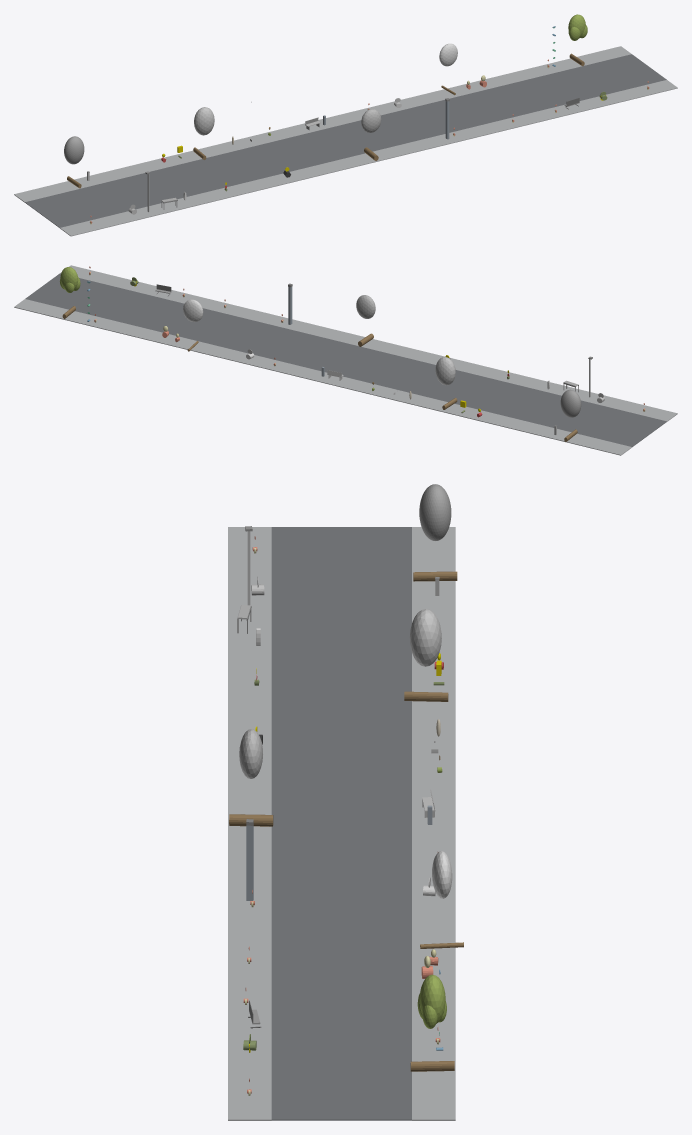
The picture shows the model from 3 angles, top to bottom: view 1: azimuth 30°, elevation 25°; view 2: azimuth 150°, elevation 25°; view 3: azimuth 270°, elevation 25°; orthographic projection. The views are drawn at different scales.
Parts seen in each view (by area): view 1: road_slab, sidewalk_left, sidewalk_right, inst_0013, inst_0012, inst_0016, inst_0014, inst_0015; view 2: road_slab, sidewalk_right, sidewalk_left, inst_0013, inst_0012, inst_0016, inst_0014, inst_0015; view 3: road_slab, sidewalk_left, sidewalk_right, inst_0013, inst_0012, inst_0016, inst_0014, inst_0015.
Boxes of the visible parts, box(x1,y1,x2,y2) form: road_slab: box(25, 54, 666, 227); sidewalk_left: box(60, 80, 677, 236); sidewalk_right: box(14, 46, 631, 202); inst_0013: box(193, 107, 214, 159); inst_0012: box(64, 136, 84, 188); inst_0016: box(568, 14, 587, 66); inst_0014: box(361, 109, 381, 160); inst_0015: box(439, 43, 457, 95); road_slab: box(25, 273, 666, 447); sidewalk_right: box(14, 299, 631, 455); sidewalk_left: box(60, 265, 677, 421); inst_0013: box(435, 357, 457, 409); inst_0012: box(560, 389, 581, 441); inst_0016: box(59, 267, 80, 318); inst_0014: box(356, 295, 375, 346); inst_0015: box(183, 299, 203, 351); road_slab: box(271, 527, 411, 1120); sidewalk_left: box(228, 527, 271, 1120); sidewalk_right: box(412, 527, 455, 1120); inst_0013: box(404, 609, 448, 701); inst_0012: box(413, 484, 457, 581); inst_0016: box(410, 974, 454, 1071); inst_0014: box(229, 729, 273, 826); inst_0015: box(420, 851, 463, 948).
Bounding box in the file's own units: 80 × 6.08 × 13.49.
